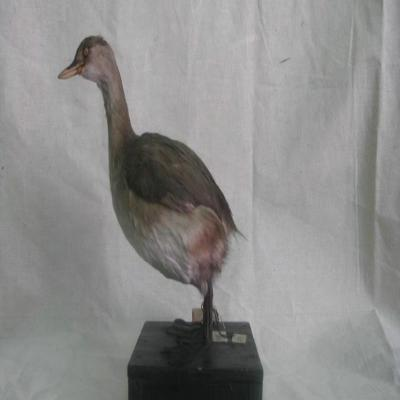natural_science_collection: (58, 36, 238, 370)
